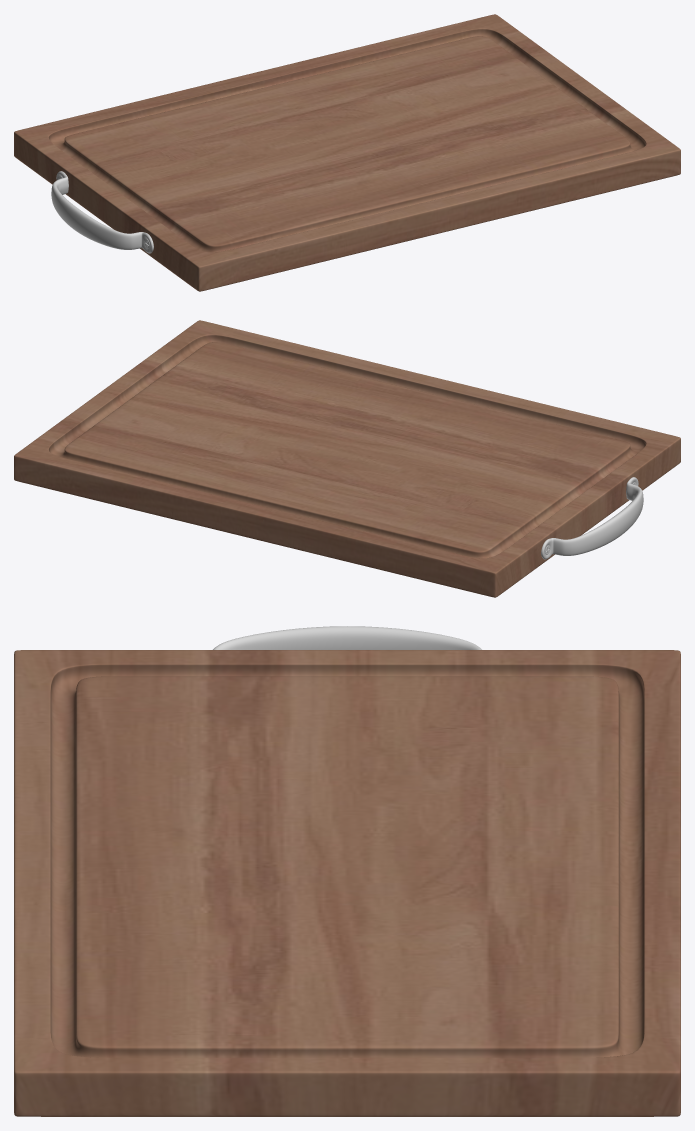
The model's file is cutting_board.fbx.
3 views of the same model, one above another, from view 1: azimuth 30°, elevation 25°; view 2: azimuth 150°, elevation 25°; view 3: azimuth 270°, elevation 25° (orthographic). The views are drawn at different scales.
Visible parts, largest first — view 1: CuttingBoardWoodiness, CuttingBoardMetal; view 2: CuttingBoardWoodiness, CuttingBoardMetal; view 3: CuttingBoardWoodiness, CuttingBoardMetal.
Boxes of the visible parts, x1,y1,x2,y2 form: CuttingBoardWoodiness: (14, 14, 680, 291); CuttingBoardMetal: (51, 171, 153, 253); CuttingBoardWoodiness: (14, 320, 680, 597); CuttingBoardMetal: (541, 477, 643, 559); CuttingBoardWoodiness: (14, 650, 680, 1116); CuttingBoardMetal: (213, 626, 481, 649).
Size of what is drawn, in the model's own units: 32.63 by 20.32 by 1.52.
